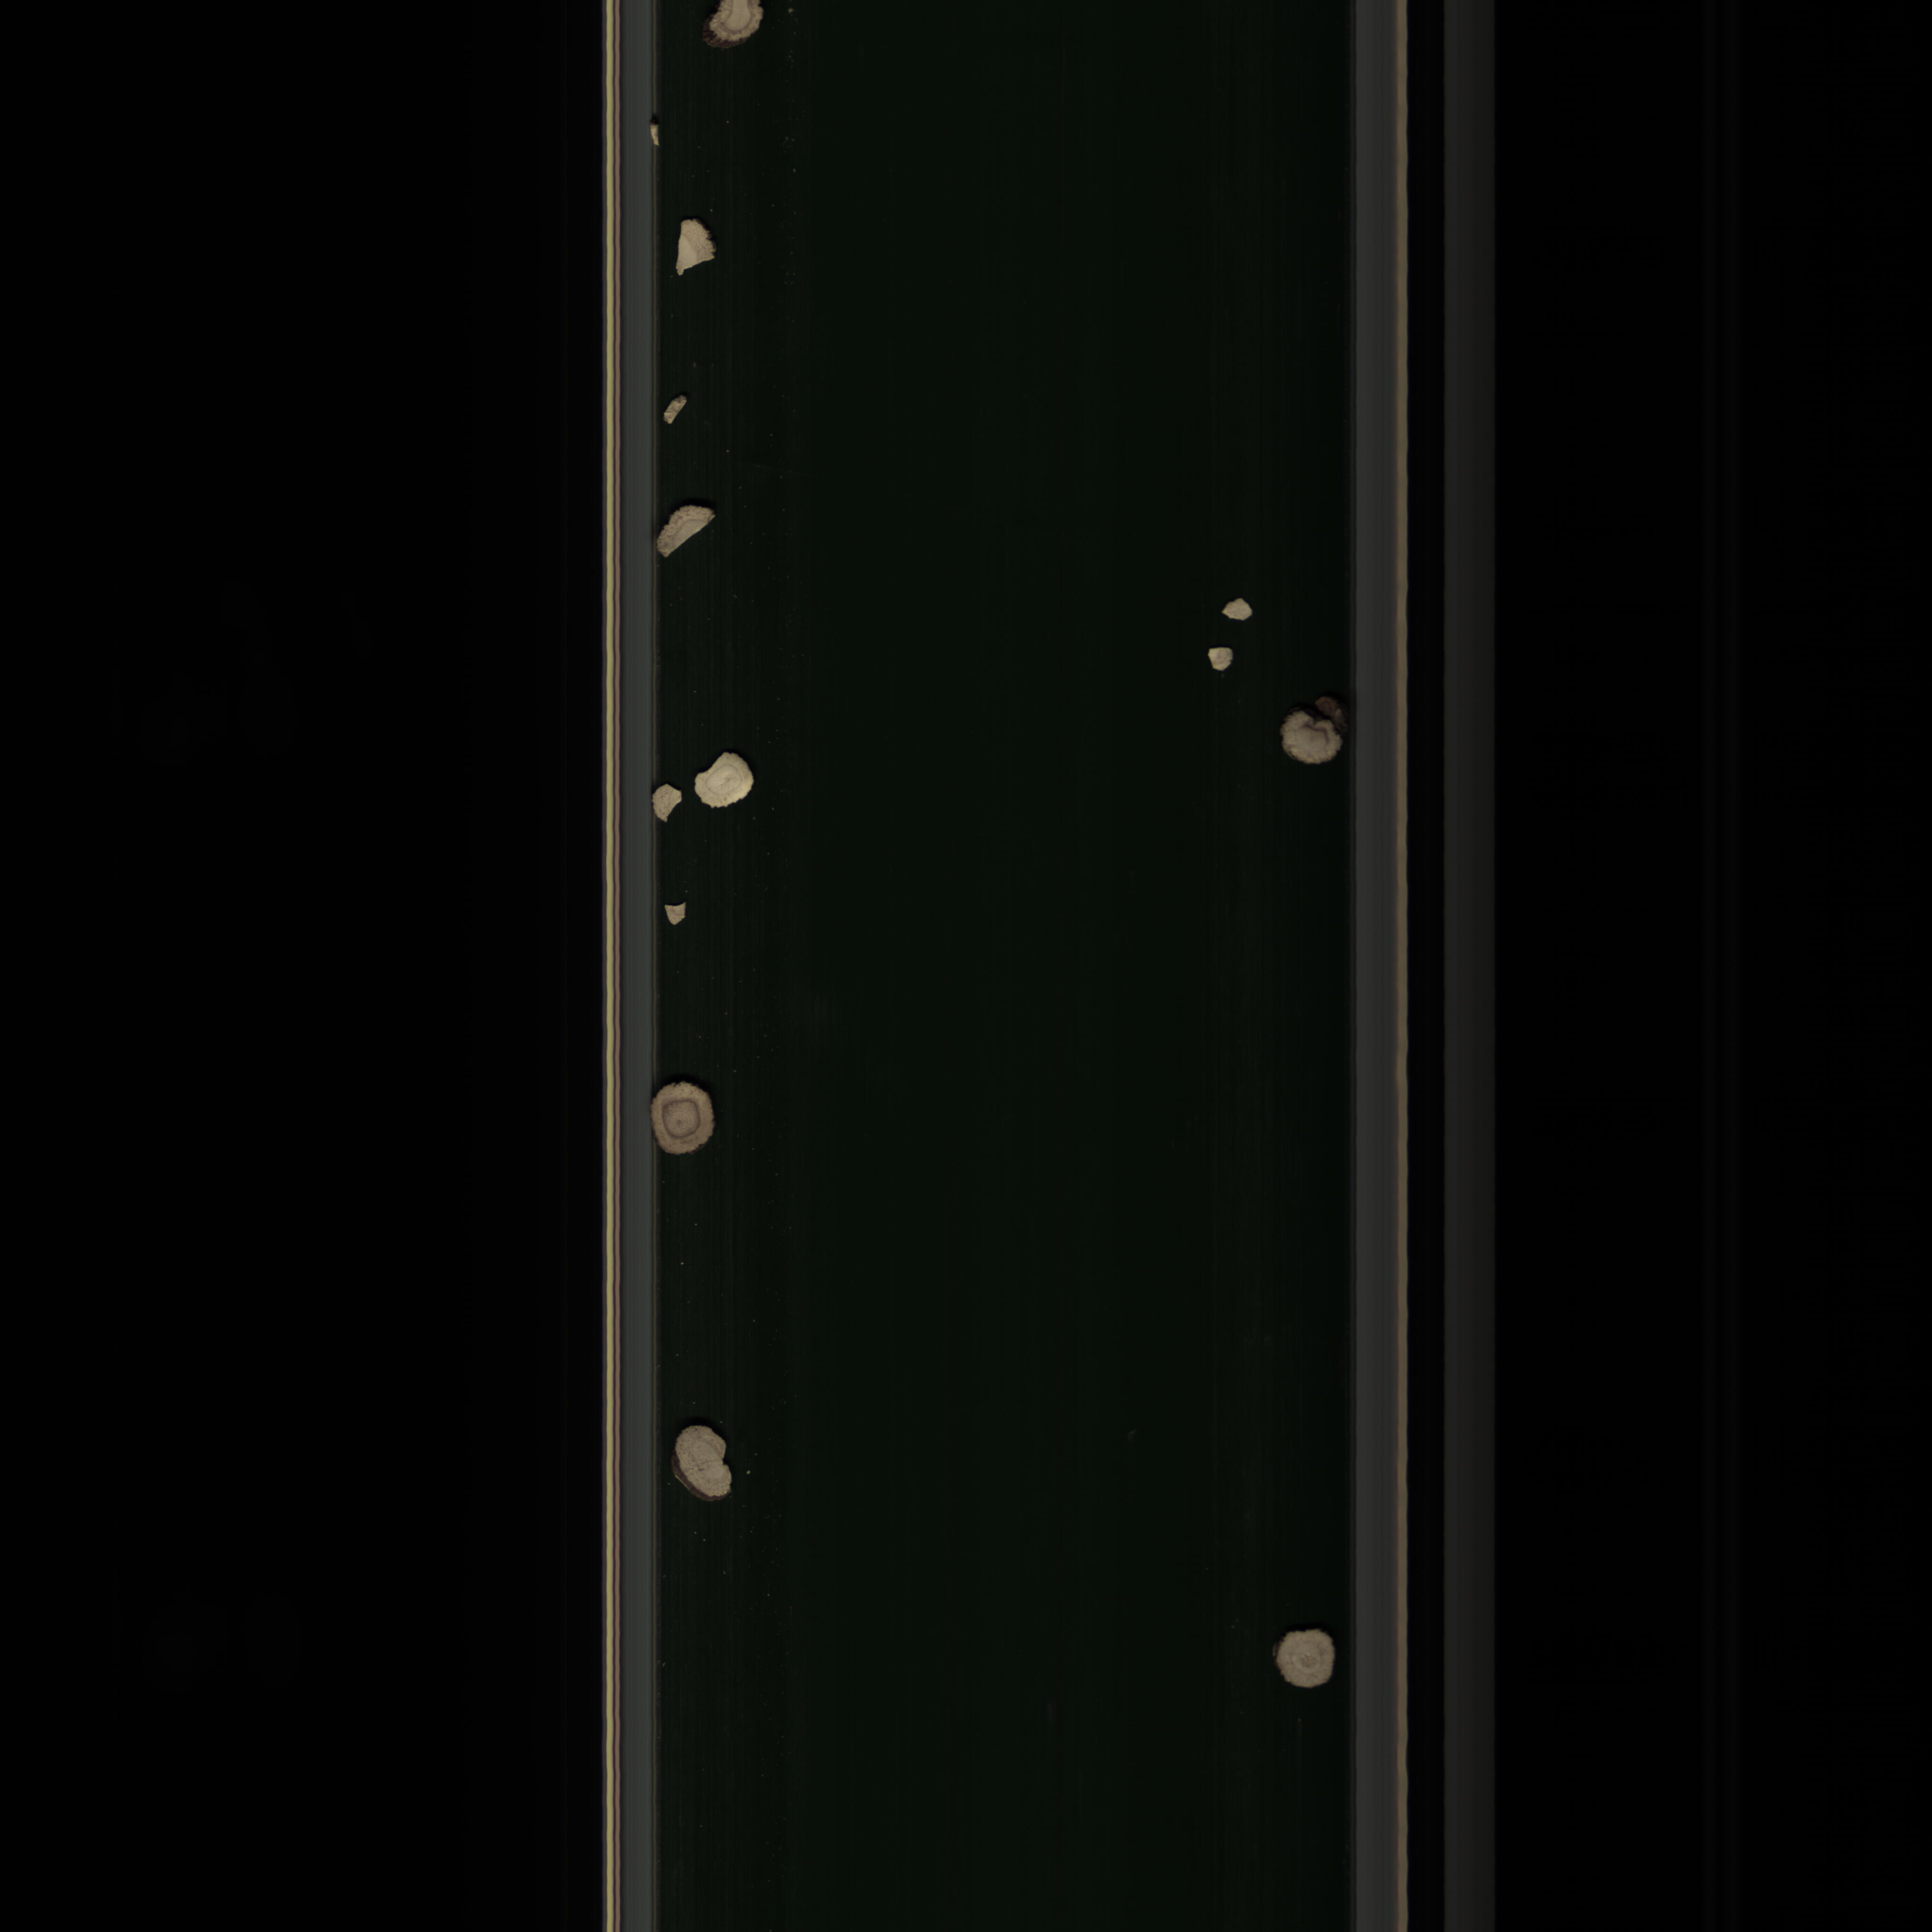debris: (685, 741, 770, 819), (651, 494, 731, 571), (665, 207, 734, 283), (1217, 586, 1261, 633), (644, 778, 686, 823), (1207, 640, 1242, 678), (658, 391, 688, 432), (660, 899, 694, 931)
